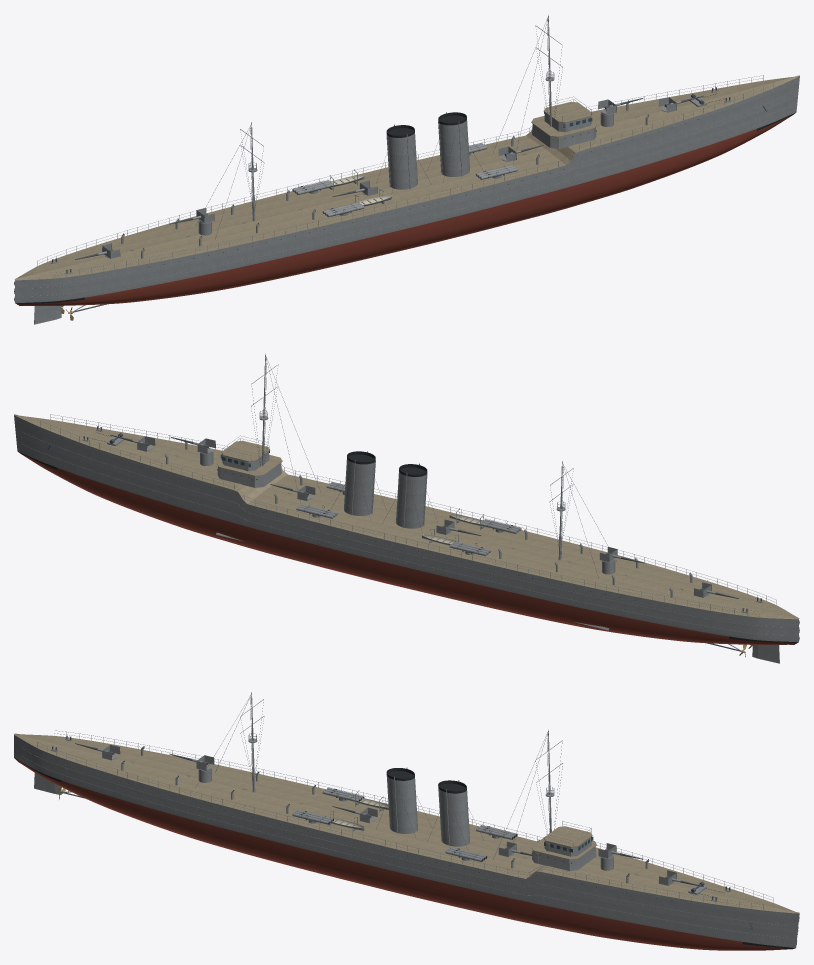
Rendered from danae.glb.
3 views of the same model, one above another, from view 1: azimuth 30°, elevation 25°; view 2: azimuth 150°, elevation 25°; view 3: azimuth 330°, elevation 25° (orthographic).
Visible parts, largest first — view 1: Danae (D) class; view 2: Danae (D) class; view 3: Danae (D) class.
Part boxes in pixels (<box>): Danae (D) class: <box>14,14,799,324</box>; Danae (D) class: <box>14,353,799,663</box>; Danae (D) class: <box>14,692,799,950</box>.
Size of the model in its own units: 144 by 32.76 by 14.26.
Materials: 8 (2 with a texture image).
